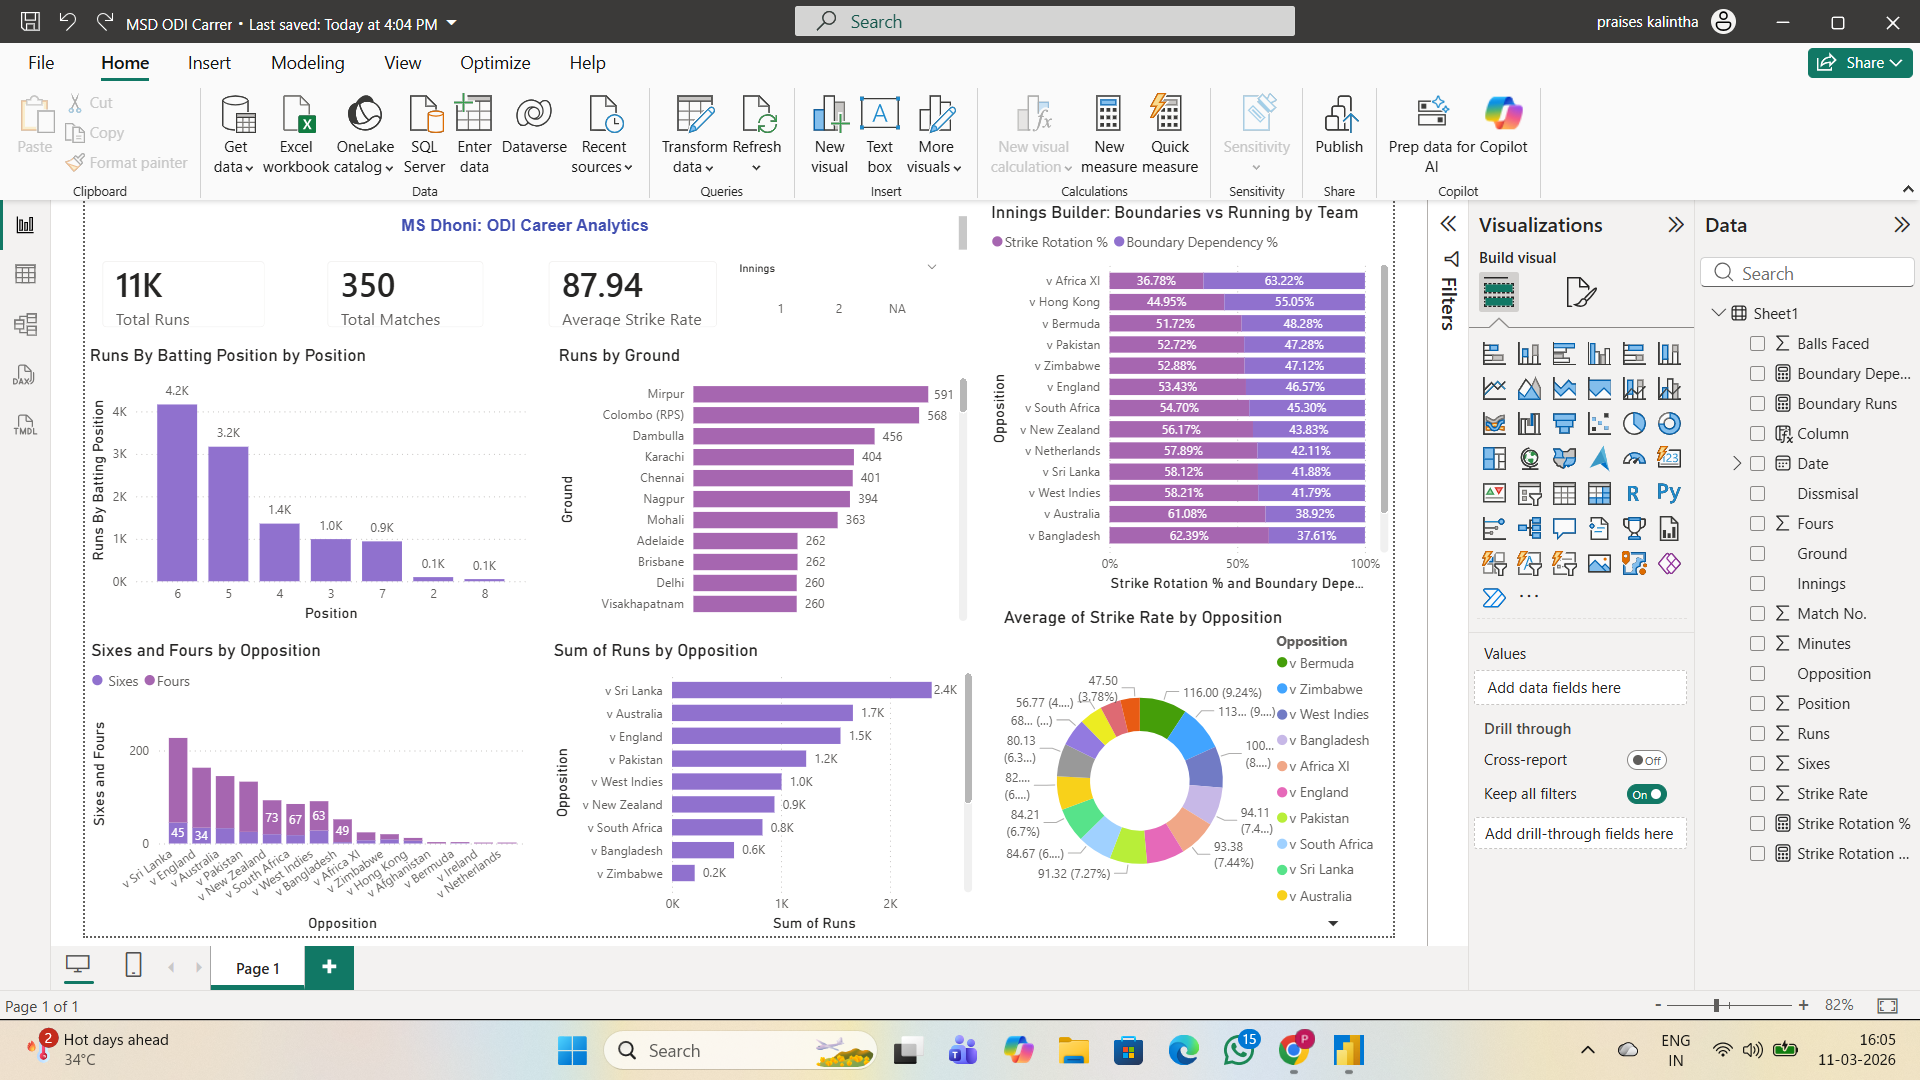

What the dashboard file says about the page in this screenshot:
{"tool":"powerbi","page":{"name":"Page 1","canvas":[1280,720],"ordinal":0},"visuals":[{"type":"columnChart","fields":{"Category":["Sheet1.Position"],"Y":["Sum(Sheet1.Runs)"]},"box":[0,141.8,436.6,275.1],"z":0},{"type":"columnChart","fields":{"Category":["Sheet1.Opposition"],"Y":["Sum(Sheet1.Sixes)","Sum(Sheet1.Fours)"]},"box":[1.2,430.4,435.3,289.8],"z":1000},{"type":"clusteredBarChart","fields":{"Y":["Sum(Sheet1.Runs)"],"Category":["Sheet1.Opposition"]},"box":[453.7,430.4,419.4,289.8],"z":2000},{"type":"donutChart","fields":{"Category":["Sheet1.Opposition"],"Y":["Avg(Sheet1.Strike Rate)"]},"box":[893.9,397.4,386.4,322.8],"z":3000},{"type":"cardVisual","fields":{"Data":["Sum(Sheet1.Runs)"]},"box":[0,42.8,193.2,99],"z":4000},{"type":"cardVisual","fields":{"Data":["CountNonNull(Sheet1.Match No.)"]},"box":[220.1,42.8,187.1,99],"z":5000},{"type":"cardVisual","fields":{"Data":["Avg(Sheet1.Strike Rate)"]},"box":[436.6,42.8,199.3,99],"z":6000},{"type":"barChart","fields":{"Category":["Sheet1.Ground"],"Y":["Sum(Sheet1.Runs)"]},"box":[458.6,141.8,409.6,275.1],"z":7000},{"type":"slicer","fields":{"Values":["Sheet1.Innings"]},"box":[627.3,55,218.9,86.8],"z":8000},{"type":"hundredPercentStackedBarChart","title":"Innings Builder: Boundaries vs Running by Team","fields":{"Category":["Sheet1.Opposition"],"Y":["Sheet1.Strike Rotation %","Sheet1.Boundary Dependency %"]},"box":[881.7,1.2,398.6,386.4],"z":9000},{"type":"textbox","box":[1.2,11,867,44],"z":10000}]}

Visuals, with their boxes on the page's 1280x720 design canvas (x1, y1, x2, y2). These are canvas units, not pixel positions in the 1920x1080 screenshot, which may show the page scaled, cropped or inside an application window:
columnChart - Sheet1.Position x Sum(Sheet1.Runs): box=[0, 142, 437, 417]
columnChart - Sheet1.Opposition x Sum(Sheet1.Sixes): box=[1, 430, 436, 720]
clusteredBarChart - Sum(Sheet1.Runs) x Sheet1.Opposition: box=[454, 430, 873, 720]
donutChart - Sheet1.Opposition x Avg(Sheet1.Strike Rate): box=[894, 397, 1280, 720]
cardVisual - Sum(Sheet1.Runs): box=[0, 43, 193, 142]
cardVisual - CountNonNull(Sheet1.Match No.): box=[220, 43, 407, 142]
cardVisual - Avg(Sheet1.Strike Rate): box=[437, 43, 636, 142]
barChart - Sheet1.Ground x Sum(Sheet1.Runs): box=[459, 142, 868, 417]
slicer - Sheet1.Innings: box=[627, 55, 846, 142]
"Innings Builder: Boundaries vs Running by Team" hundredPercentStackedBarChart: box=[882, 1, 1280, 388]
textbox: box=[1, 11, 868, 55]
